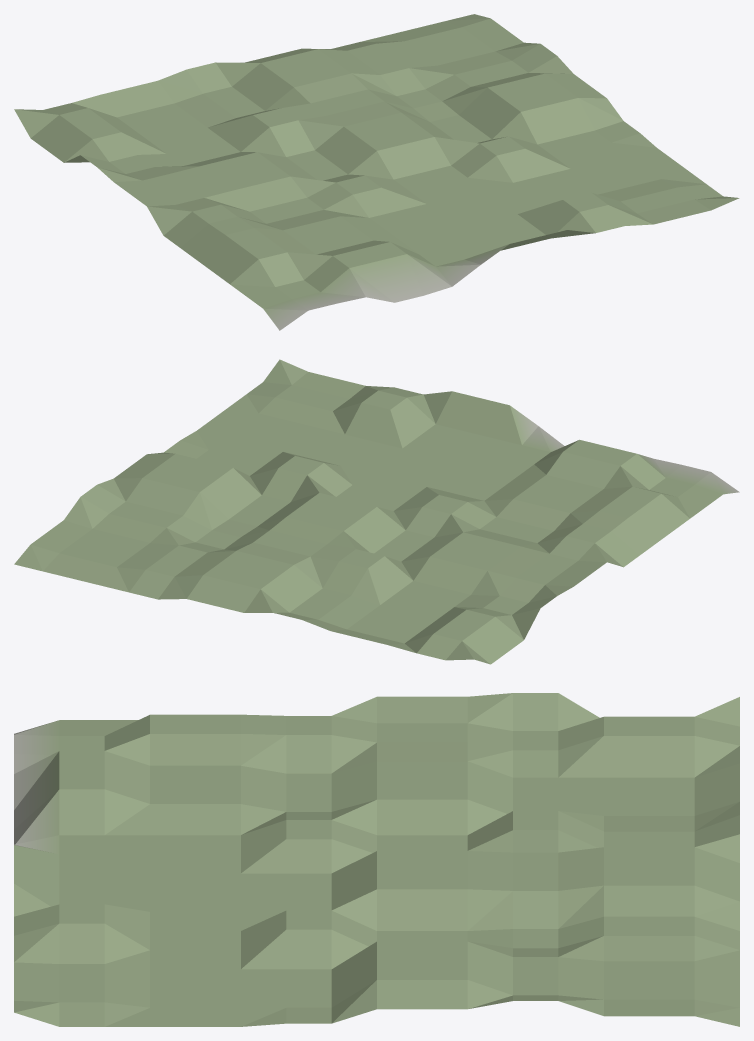
3 views of the same model, one above another, from view 1: azimuth 30°, elevation 25°; view 2: azimuth 150°, elevation 25°; view 3: azimuth 270°, elevation 25° (orthographic). The views are drawn at different scales.
Bounding box in the file's own units: 32 × 2.05 × 32.
